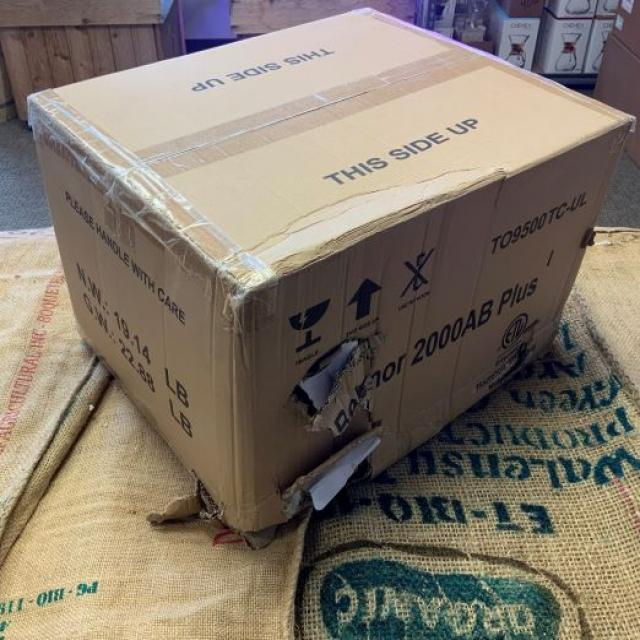hole: (262, 336, 380, 428), (187, 472, 231, 524)
